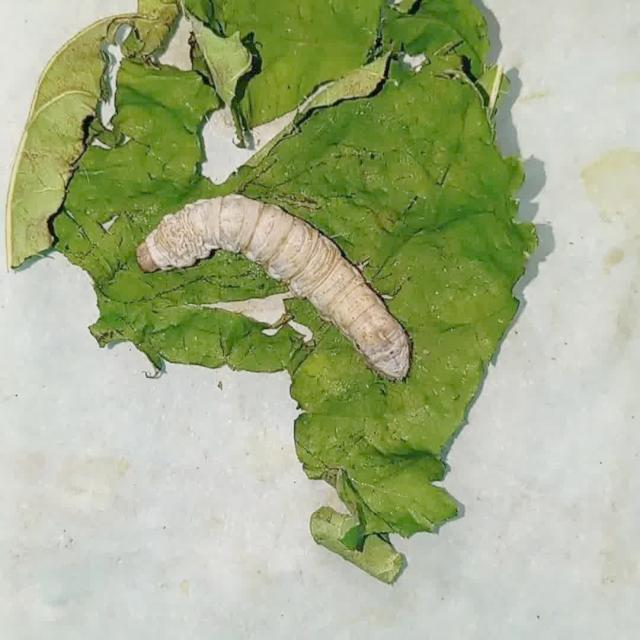Grasserie: (126, 186, 417, 389)
